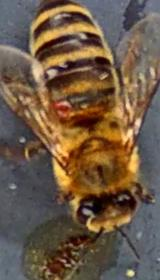varroa_mite: (52, 92, 76, 121)
